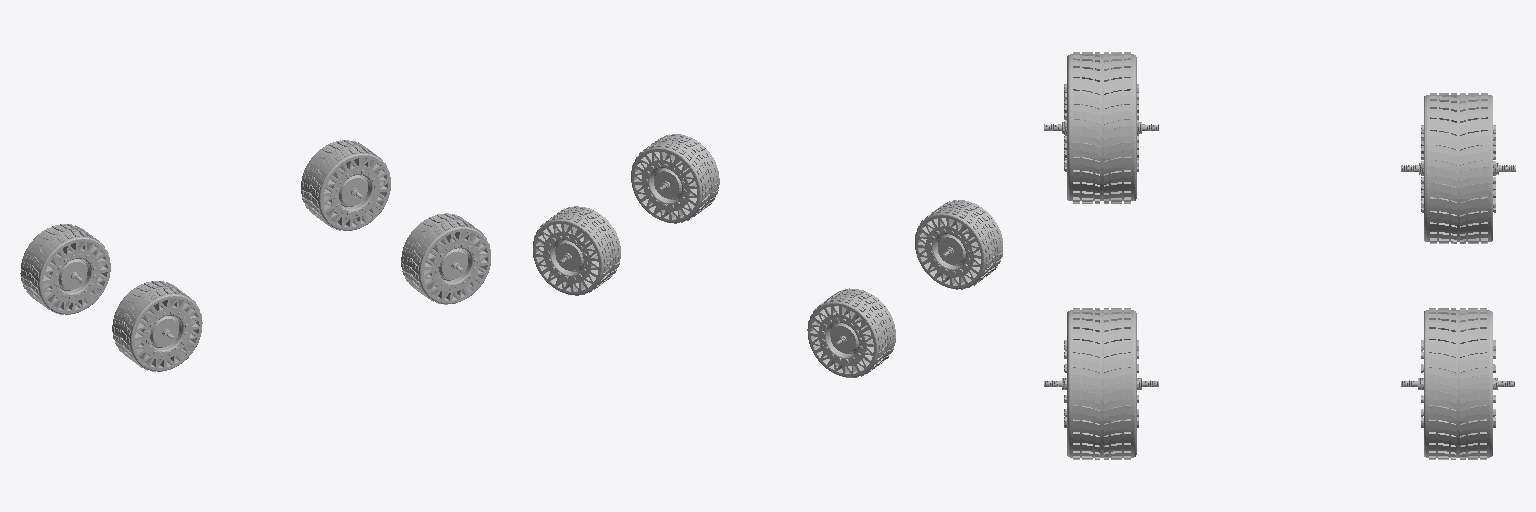
robot.urdf — Metrojoe Rover Assembly:
<?xml version="1.0" encoding="utf-8"?>
<!-- This URDF was automatically created by SolidWorks to URDF Exporter! Originally created by Stephen Brawner (brawner@gmail.com) 
     Commit Version: 1.6.0-4-g7f85cfe  Build Version: 1.6.7995.38578
     For more information, please see http://wiki.ros.org/sw_urdf_exporter -->
<robot
  name="Metrojoe Rover Assembly">
  <link
    name="base_link">
    <inertial>
      <origin
        xyz="0.0170222616739411 0.000183919617328748 0.0474428114892766"
        rpy="0 0 0" />
      <mass
        value="45.4484531162834" />
      <inertia
        ixx="0.43388923029659"
        ixy="2.55112181599975E-05"
        ixz="-0.0128692818885221"
        iyy="0.915998509052372"
        iyz="-0.000366336363693261"
        izz="1.17768516830446" />
    </inertial>
    <visual>
      <origin
        xyz="0 0 0"
        rpy="0 0 0" />
      <geometry>
        <mesh
          filename="package://jaska_description/meshes/jaska_v2/base_link.STL" />
      </geometry>
      <material
        name="">
        <color
          rgba="0.752941176470588 0.752941176470588 0.752941176470588 1" />
      </material>
    </visual>
    <collision>
      <origin
        xyz="0 0 0"
        rpy="0 0 0" />
      <geometry>
        <mesh
          filename="package://jaska_description/meshes/jaska_v2/base_link.STL" />
      </geometry>
    </collision>
  </link>
  <link
    name="front_left_wheel">
    <inertial>
      <origin
        xyz="4.21454759980122E-10 -9.69858415800218E-10 -0.0447892364445993"
        rpy="0 0 0" />
      <mass
        value="4.35753639315825" />
      <inertia
        ixx="0.012892993411603"
        ixy="0.00108469725747096"
        ixz="3.65849726862846E-10"
        iyy="0.00639521219913669"
        iyz="1.57680373234348E-10"
        izz="0.0130591851043797" />
    </inertial>
    <visual>
      <origin
        xyz="0 0 0"
        rpy="0 0 0" />
      <geometry>
        <mesh
          filename="package://jaska_description/meshes/jaska_v2/front_left_wheel.STL" />
      </geometry>
      <material
        name="">
        <color
          rgba="0.752941176470588 0.752941176470588 0.752941176470588 1" />
      </material>
    </visual>
    <collision>
      <origin
        xyz="0 0 0"
        rpy="0 0 0" />
      <geometry>
        <mesh
          filename="package://jaska_description/meshes/jaska_v2/front_left_wheel.STL" />
      </geometry>
    </collision>
  </link>
  <joint
    name="front_left_wheel_joint"
    type="continuous">
    <origin
      xyz="0.42316 0.30165 -0.20145"
      rpy="-1.5708 0 0" />
    <parent
      link="base_link" />
    <child
      link="front_left_wheel" />
    <axis
      xyz="0 0 -1" />
    <dynamics
      damping="0.1"
      friction="0.1" />
  </joint>
  <link
    name="front_right_wheel">
    <inertial>
      <origin
        xyz="4.21547352580376E-10 -9.69923724669641E-10 0.0448107635553963"
        rpy="0 0 0" />
      <mass
        value="4.35753639315826" />
      <inertia
        ixx="0.012892993411603"
        ixy="0.00108469725747094"
        ixz="3.65849724310847E-10"
        iyy="0.00639521219913669"
        iyz="1.57680401556662E-10"
        izz="0.0130591851043797" />
    </inertial>
    <visual>
      <origin
        xyz="0 0 0"
        rpy="0 0 0" />
      <geometry>
        <mesh
          filename="package://jaska_description/meshes/jaska_v2/front_right_wheel.STL" />
      </geometry>
      <material
        name="">
        <color
          rgba="0.752941176470588 0.752941176470588 0.752941176470588 1" />
      </material>
    </visual>
    <collision>
      <origin
        xyz="0 0 0"
        rpy="0 0 0" />
      <geometry>
        <mesh
          filename="package://jaska_description/meshes/jaska_v2/front_right_wheel.STL" />
      </geometry>
    </collision>
  </link>
  <joint
    name="front_right_wheel_joint"
    type="continuous">
    <origin
      xyz="0.42321 -0.30141 -0.20139"
      rpy="-1.5708 0 0" />
    <parent
      link="base_link" />
    <child
      link="front_right_wheel" />
    <axis
      xyz="0 0 1" />
    <dynamics
      damping="0.1"
      friction="0.1" />
  </joint>
  <link
    name="rear_left_wheel">
    <inertial>
      <origin
        xyz="3.18619401695752E-10 -1.00835190197657E-09 -0.0447892364450866"
        rpy="0 0 0" />
      <mass
        value="4.35753639306677" />
      <inertia
        ixx="0.0130468949017929"
        ixy="0.000390978594948193"
        ixz="3.80232289698405E-10"
        iyy="0.00624131070987693"
        iyz="1.18880323791037E-10"
        izz="0.013059185103982" />
    </inertial>
    <visual>
      <origin
        xyz="0 0 0"
        rpy="0 0 0" />
      <geometry>
        <mesh
          filename="package://jaska_description/meshes/jaska_v2/rear_left_wheel.STL" />
      </geometry>
      <material
        name="">
        <color
          rgba="0.752941176470588 0.752941176470588 0.752941176470588 1" />
      </material>
    </visual>
    <collision>
      <origin
        xyz="0 0 0"
        rpy="0 0 0" />
      <geometry>
        <mesh
          filename="package://jaska_description/meshes/jaska_v2/rear_left_wheel.STL" />
      </geometry>
    </collision>
  </link>
  <joint
    name="rear_left_wheel_joint"
    type="continuous">
    <origin
      xyz="-0.40462 0.30241 -0.24511"
      rpy="-1.5708 0 0" />
    <parent
      link="base_link" />
    <child
      link="rear_left_wheel" />
    <axis
      xyz="0 0 -1" />
    <dynamics
      damping="0.1"
      friction="0.1" />
  </joint>
  <link
    name="rear_right_wheel">
    <inertial>
      <origin
        xyz="-3.18607029647922E-10 1.00833397187472E-09 0.0448107635549137"
        rpy="0 0 0" />
      <mass
        value="4.35753639306677" />
      <inertia
        ixx="0.013046894901793"
        ixy="0.000390978594948189"
        ixz="-3.80232286475881E-10"
        iyy="0.00624131070987693"
        iyz="-1.18880320257395E-10"
        izz="0.013059185103982" />
    </inertial>
    <visual>
      <origin
        xyz="0 0 0"
        rpy="0 0 0" />
      <geometry>
        <mesh
          filename="package://jaska_description/meshes/jaska_v2/rear_right_wheel.STL" />
      </geometry>
      <material
        name="">
        <color
          rgba="0.752941176470588 0.752941176470588 0.752941176470588 1" />
      </material>
    </visual>
    <collision>
      <origin
        xyz="0 0 0"
        rpy="0 0 0" />
      <geometry>
        <mesh
          filename="package://jaska_description/meshes/jaska_v2/rear_right_wheel.STL" />
      </geometry>
    </collision>
  </link>
  <joint
    name="rear_right_wheel_joint"
    type="continuous">
    <origin
      xyz="-0.43059 -0.30141 -0.19238"
      rpy="-1.5708 0 0" />
    <parent
      link="base_link" />
    <child
      link="rear_right_wheel" />
    <axis
      xyz="0 0 1" />
    <dynamics
      damping="0.1"
      friction="0.1" />
  </joint>
</robot>

--- What the picture shows (computed from the rendered views, not written in the file) ---
Views: 3 orthographic renders of the robot side by side, from view 1: azimuth 30°, elevation 25°; view 2: azimuth 150°, elevation 25°; view 3: azimuth 270°, elevation 25°.
Robot: Metrojoe Rover Assembly — 5 links, 4 joints (4 continuous); root link base_link; default pose: every joint at zero.
Visible links, largest first — view 1: front_left_wheel, rear_right_wheel, rear_left_wheel, front_right_wheel; view 2: front_right_wheel, rear_right_wheel, rear_left_wheel, front_left_wheel; view 3: rear_right_wheel, rear_left_wheel, front_right_wheel, front_left_wheel.
Boxes of the visible links, <box> form: front_left_wheel: <box>301,140,390,230</box>; rear_right_wheel: <box>112,281,202,371</box>; rear_left_wheel: <box>20,224,110,314</box>; front_right_wheel: <box>401,213,490,304</box>; front_right_wheel: <box>631,134,719,223</box>; rear_right_wheel: <box>915,200,1002,289</box>; rear_left_wheel: <box>807,288,895,377</box>; front_left_wheel: <box>533,206,620,295</box>; rear_right_wheel: <box>1044,52,1158,203</box>; rear_left_wheel: <box>1401,93,1515,243</box>; front_right_wheel: <box>1044,308,1158,459</box>; front_left_wheel: <box>1401,308,1514,459</box>.
Size in the robot's own frame: 1.07 by 0.6788 by 0.2714 metres.
4 mesh visuals loaded from 5 distinct referenced files (4 binary STL); not drawn: 1 (reference not matched to a file when rendering).
